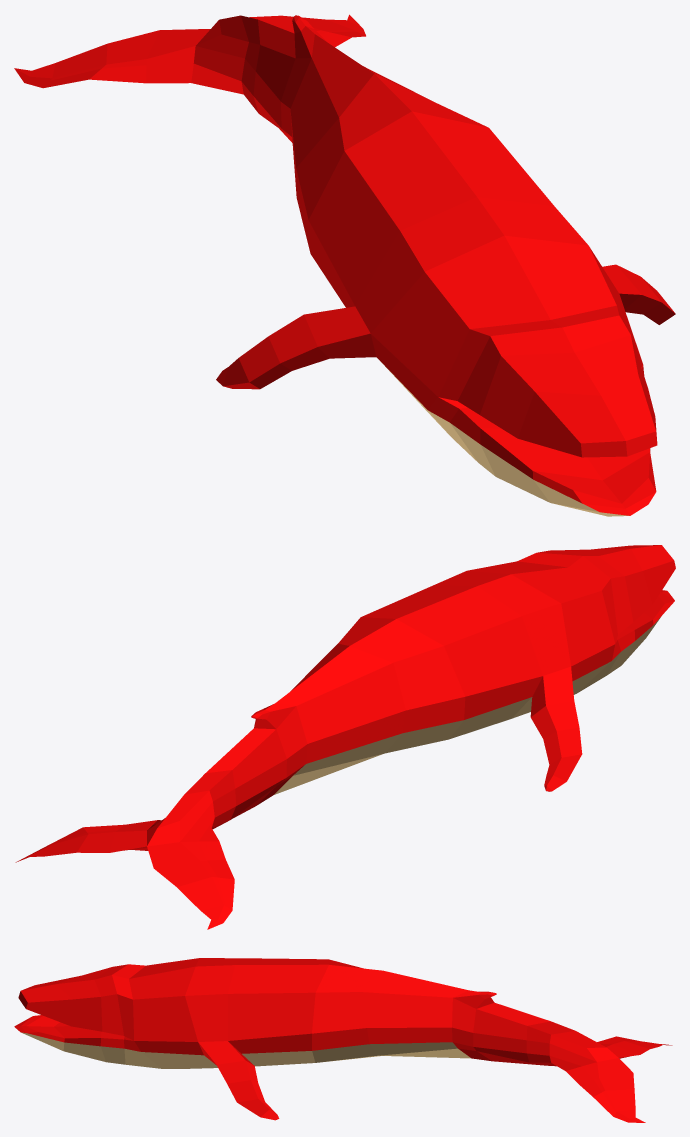
The model's file is whale.FBX.
The picture shows the model from 3 angles, top to bottom: view 1: azimuth 30°, elevation 25°; view 2: azimuth 150°, elevation 25°; view 3: azimuth 270°, elevation 25°; orthographic projection. The views are drawn at different scales.
Parts seen in each view (by area): view 1: Whale; view 2: Whale; view 3: Whale.
Boxes of the visible parts, left/top/right/bottom form: Whale: left=14, top=14, right=675, bottom=516; Whale: left=15, top=545, right=675, bottom=929; Whale: left=14, top=958, right=672, bottom=1122.
Size of the model in its own units: 861 by 2069 by 374.
